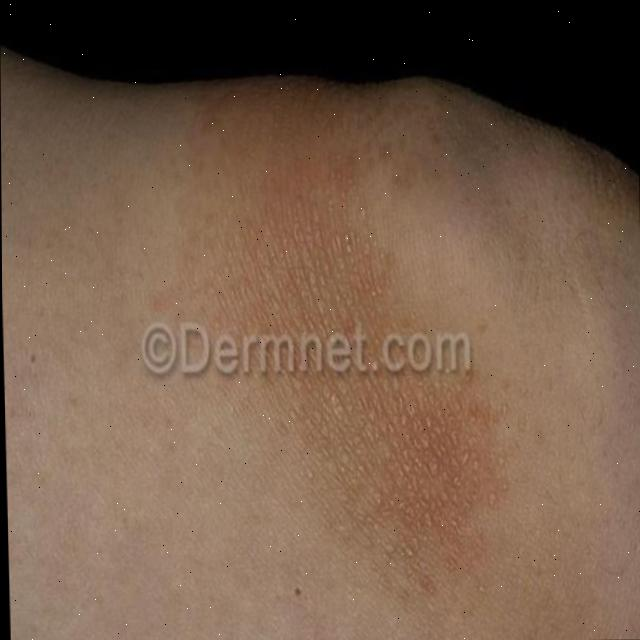Eczema: (128, 79, 496, 531)
